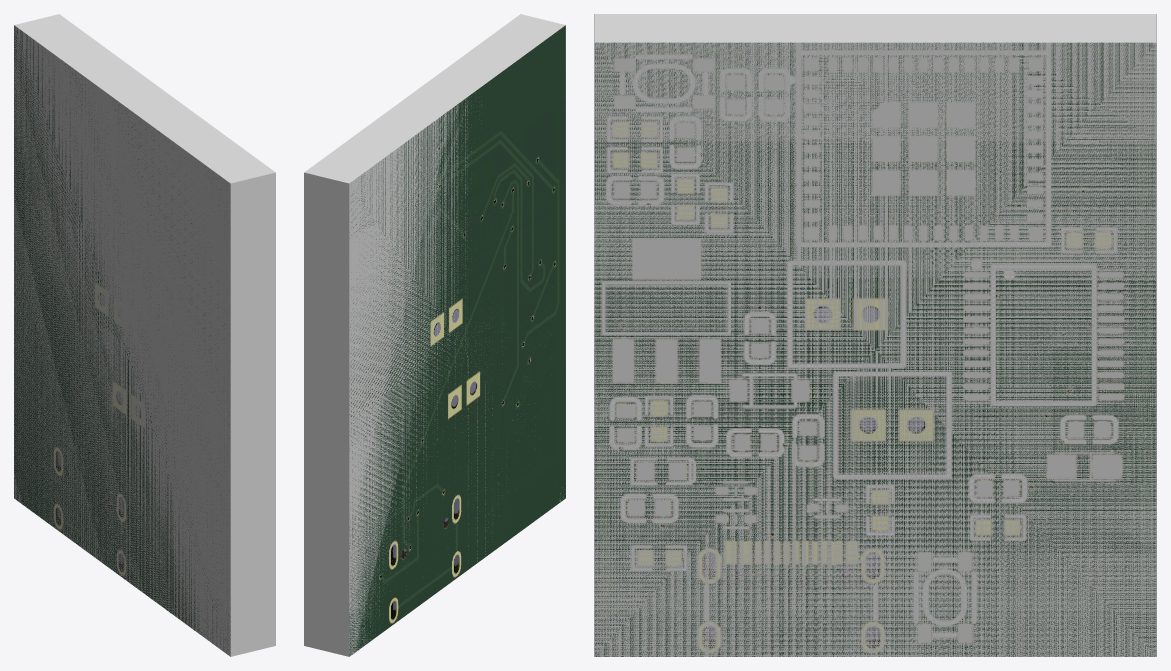
The model's file is ver1.glb.
3 views of the same model, side by side, from view 1: azimuth 30°, elevation 25°; view 2: azimuth 150°, elevation 25°; view 3: azimuth 270°, elevation 25° (orthographic). The views are drawn at different scales.
Visible parts, largest first — view 1: Cube, ver1_b; view 2: ver1_b, Cube; view 3: Cube, ver1_f.
Part boxes in pixels (x1,y1,x2,y2): Cube: [14, 14, 275, 656]; ver1_b: [14, 25, 230, 652]; ver1_b: [349, 25, 565, 656]; Cube: [304, 14, 565, 656]; Cube: [594, 14, 1156, 656]; ver1_f: [594, 42, 1156, 656].
Size of the model in its own units: 0.1 by 1 by 0.8294.
2 materials, 2 textured.
